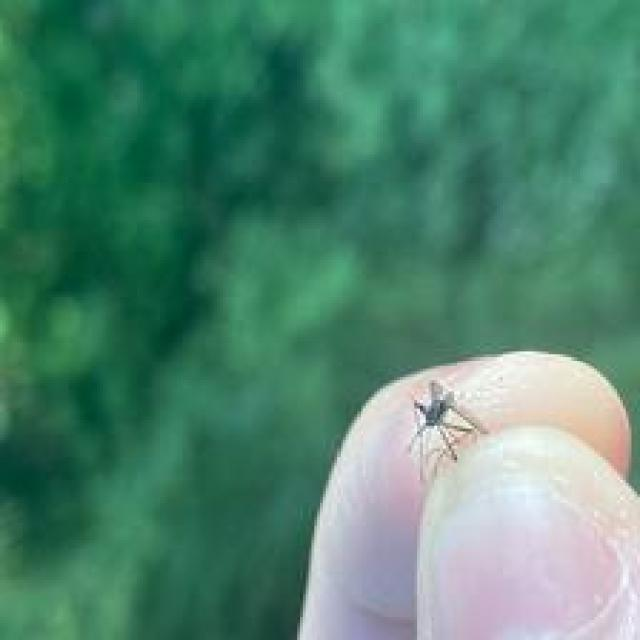Aedes albopictus: (406, 377, 488, 483)
